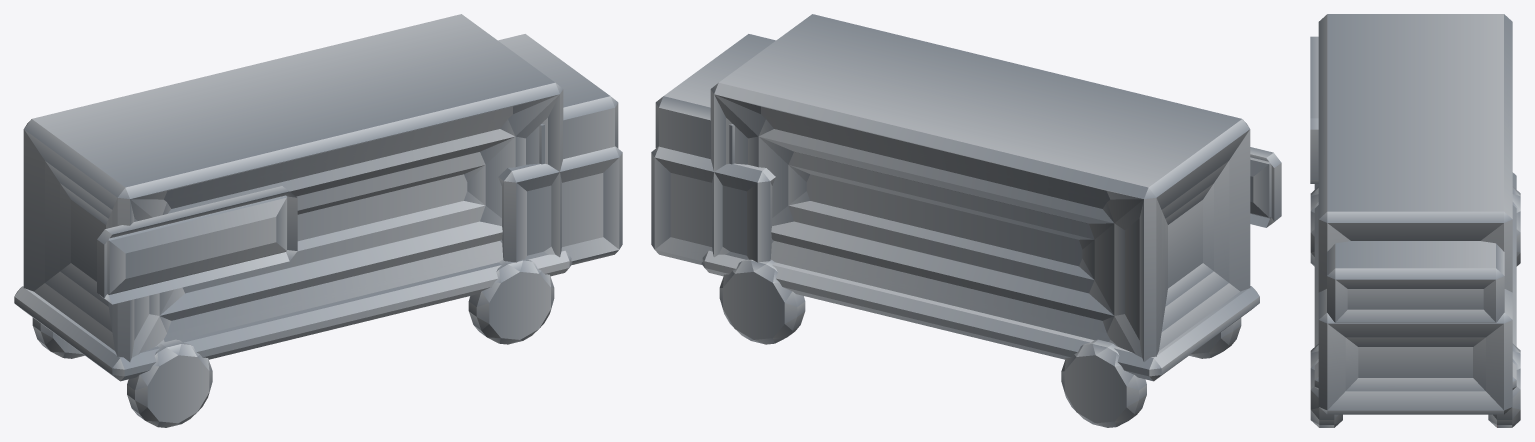
The model's file is dt_delivery_van.fbx.
3 renders of one model, left to right at view 1: azimuth 30°, elevation 25°; view 2: azimuth 150°, elevation 25°; view 3: azimuth 270°, elevation 25°, orthographic. The views are drawn at different scales.
Parts seen in each view (by area): view 1: dt_delivery_van; view 2: dt_delivery_van; view 3: dt_delivery_van.
Part boxes in pixels (<box>): dt_delivery_van: <box>14,14,622,427</box>; dt_delivery_van: <box>651,14,1281,427</box>; dt_delivery_van: <box>1310,14,1520,427</box>.
Size of the model in its own units: 1700 by 758 by 624.
